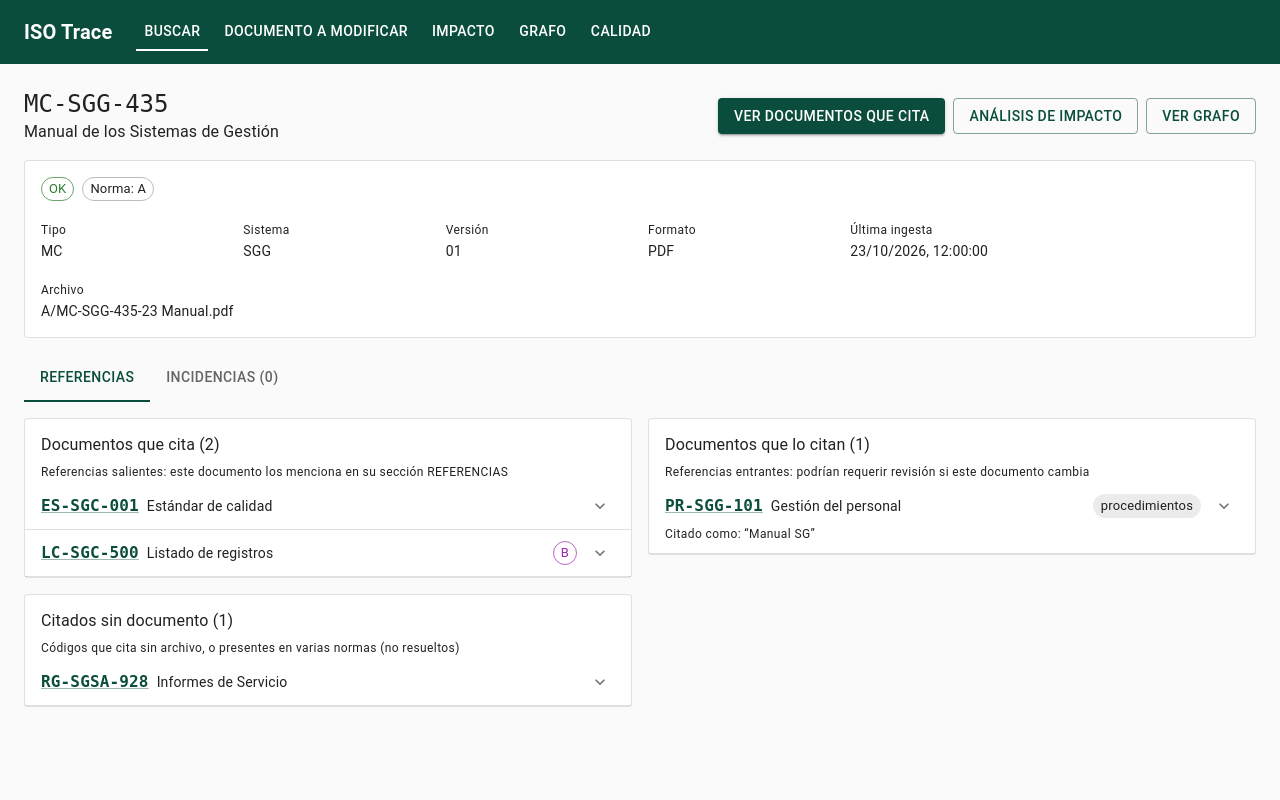
Scenario: DocumentPage › muestra la evidencia de cada ocurrencia
Click the button named "Evidencia de PR-SGG-101" at (1224, 506), box [1209,491,1239,521]
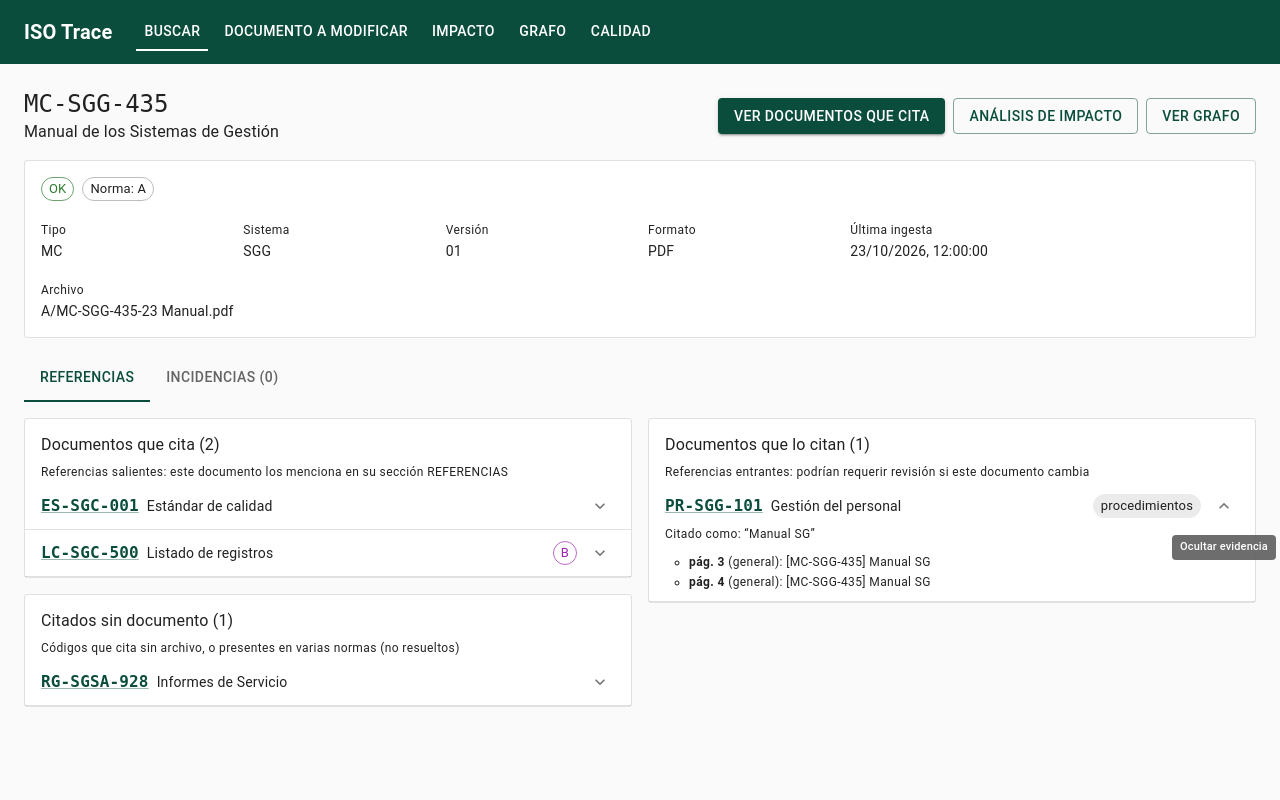
Expected: the text "Citado como: “Manual SG”" is shown, [665,527,815,541]
Expected: the text "pág. 3" is shown, [689,555,725,569]
Expected: the text "pág. 4" is shown, [689,575,725,589]
